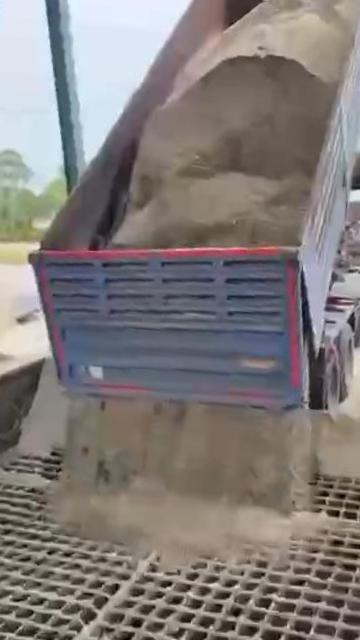sand: (18, 363, 360, 564), (113, 1, 360, 247), (45, 553, 155, 640), (0, 463, 47, 491)
